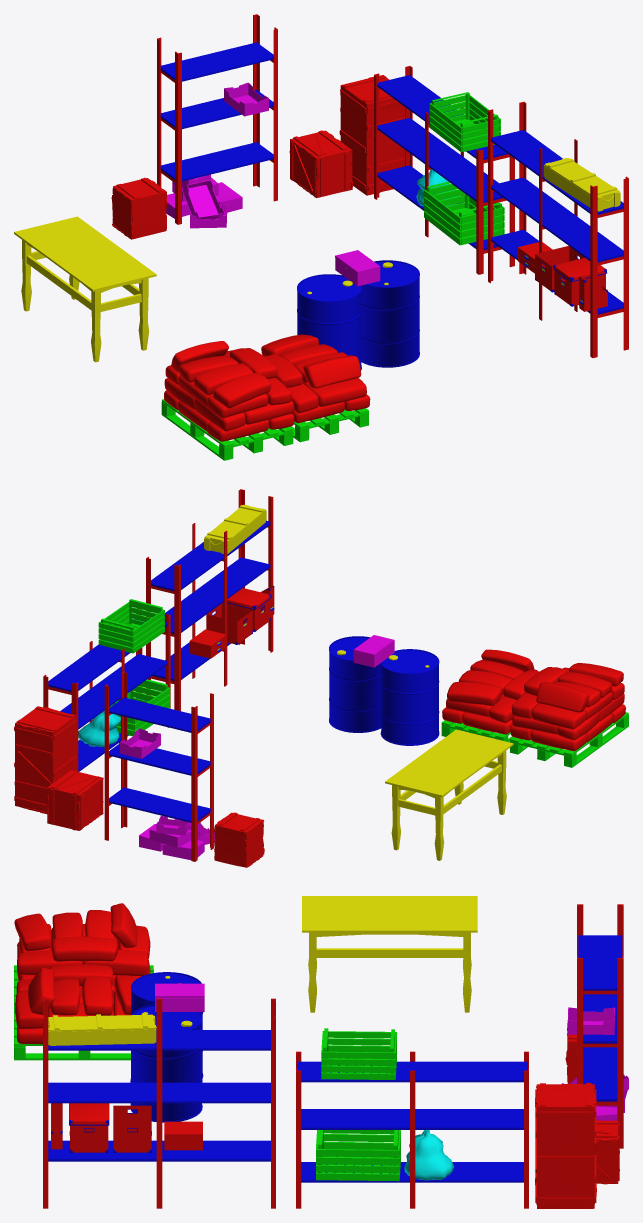
Rendered from objetos-sotano.fbx.
The picture shows the model from 3 angles, top to bottom: view 1: azimuth 30°, elevation 25°; view 2: azimuth 150°, elevation 25°; view 3: azimuth 270°, elevation 25°; orthographic projection. The views are drawn at different scales.
Parts seen in each view (by area): view 1: estante_3, Oil_Drums_Blue, estante_1, estante_2, mesa, sack4, sack7, box_wood, box2_wood, Box440, Box3, box1_wood (+12 smaller); view 2: Oil_Drums_Blue, estante_3, estante_1, mesa, estante_2, box_wood, sack4, sack7, box2_wood, Box3, box1_wood, polySurface102 (+13 smaller); view 3: estante_3, estante_2, mesa, box_wood, estante_1, sack4, sack7, Oil_Drums_Blue, Box440, Box3, supply_crate4, Box_Box 04 (+11 smaller).
Part boxes in pixels (<box>): estante_3: <box>488,101,628,357</box>; Oil_Drums_Blue: <box>297,260,419,370</box>; estante_1: <box>157,14,277,224</box>; estante_2: <box>374,66,514,274</box>; mesa: <box>14,216,156,362</box>; sack4: <box>165,341,291,418</box>; sack7: <box>261,334,366,413</box>; box_wood: <box>339,75,405,195</box>; box2_wood: <box>289,130,352,197</box>; Box440: <box>424,181,504,245</box>; Box3: <box>429,92,500,152</box>; box1_wood: <box>111,177,167,239</box>; Oil_Drums_Blue: <box>329,636,439,745</box>; estante_3: <box>146,489,273,711</box>; estante_1: <box>104,672,213,861</box>; mesa: <box>385,729,513,860</box>; estante_2: <box>43,608,170,771</box>; box_wood: <box>14,706,77,813</box>; sack4: <box>511,663,624,729</box>; sack7: <box>446,649,539,722</box>; box2_wood: <box>47,770,103,830</box>; Box3: <box>98,599,164,653</box>; box1_wood: <box>214,812,264,867</box>; polySurface102: <box>139,816,214,860</box>; estante_3: <box>43,998,275,1208</box>; estante_2: <box>296,1051,528,1208</box>; mesa: <box>302,896,477,1012</box>; box_wood: <box>535,1082,596,1208</box>; estante_1: <box>577,904,623,1148</box>; sack4: <box>14,903,150,976</box>; sack7: <box>15,964,138,1028</box>; Oil_Drums_Blue: <box>130,972,203,1122</box>; Box440: <box>316,1130,400,1181</box>; Box3: <box>321,1028,396,1079</box>; supply_crate4: <box>48,1013,156,1045</box>; Box_Box 04: <box>69,1103,109,1152</box>.
Size of what is drawn, in the model's own units: 467 by 180 by 528.
